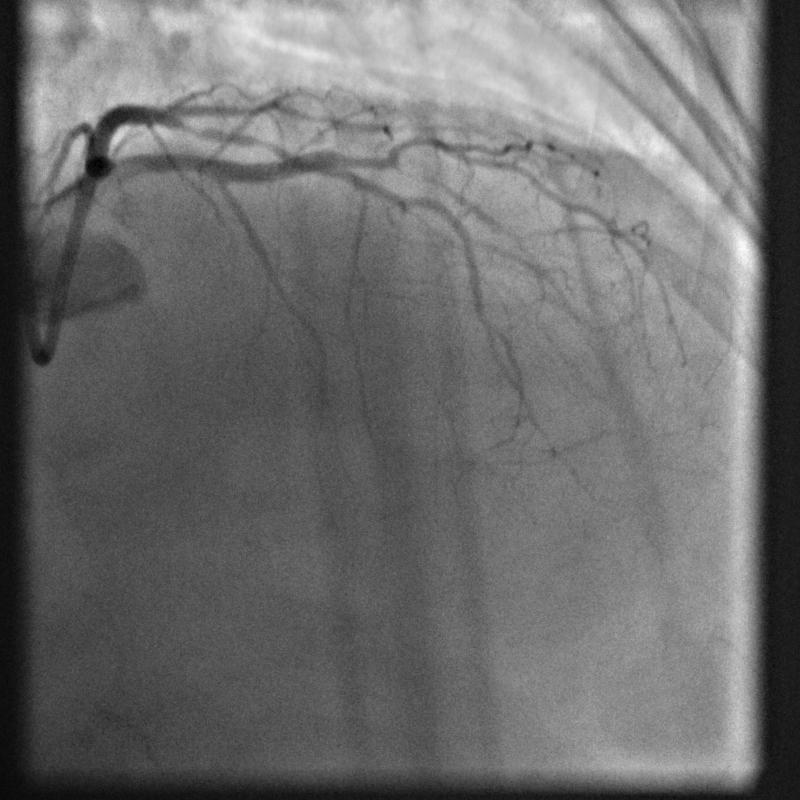Stenosis: (177, 119, 278, 156)
